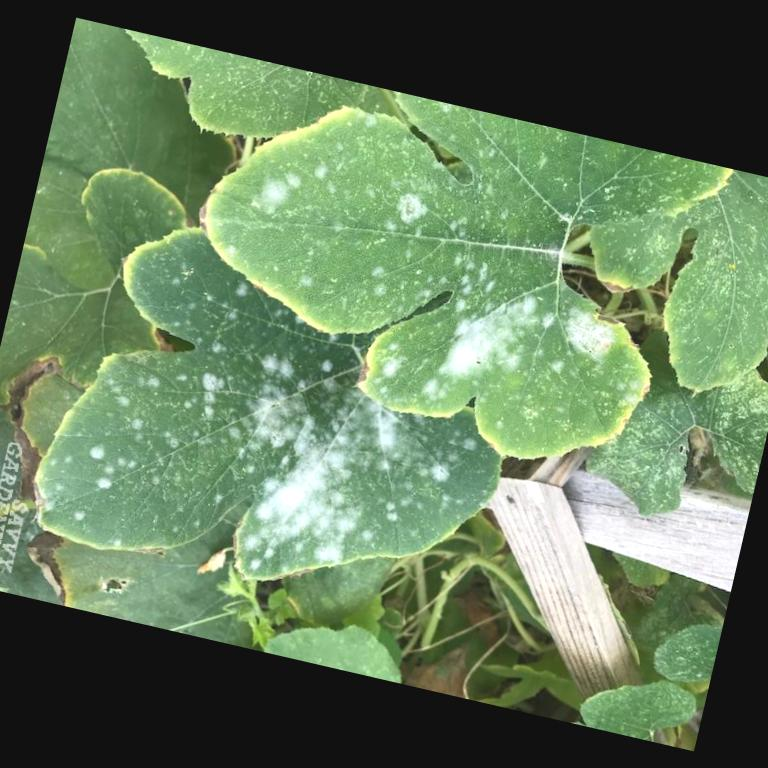powdery-mildew: (251, 398, 398, 550), (425, 270, 550, 406)
